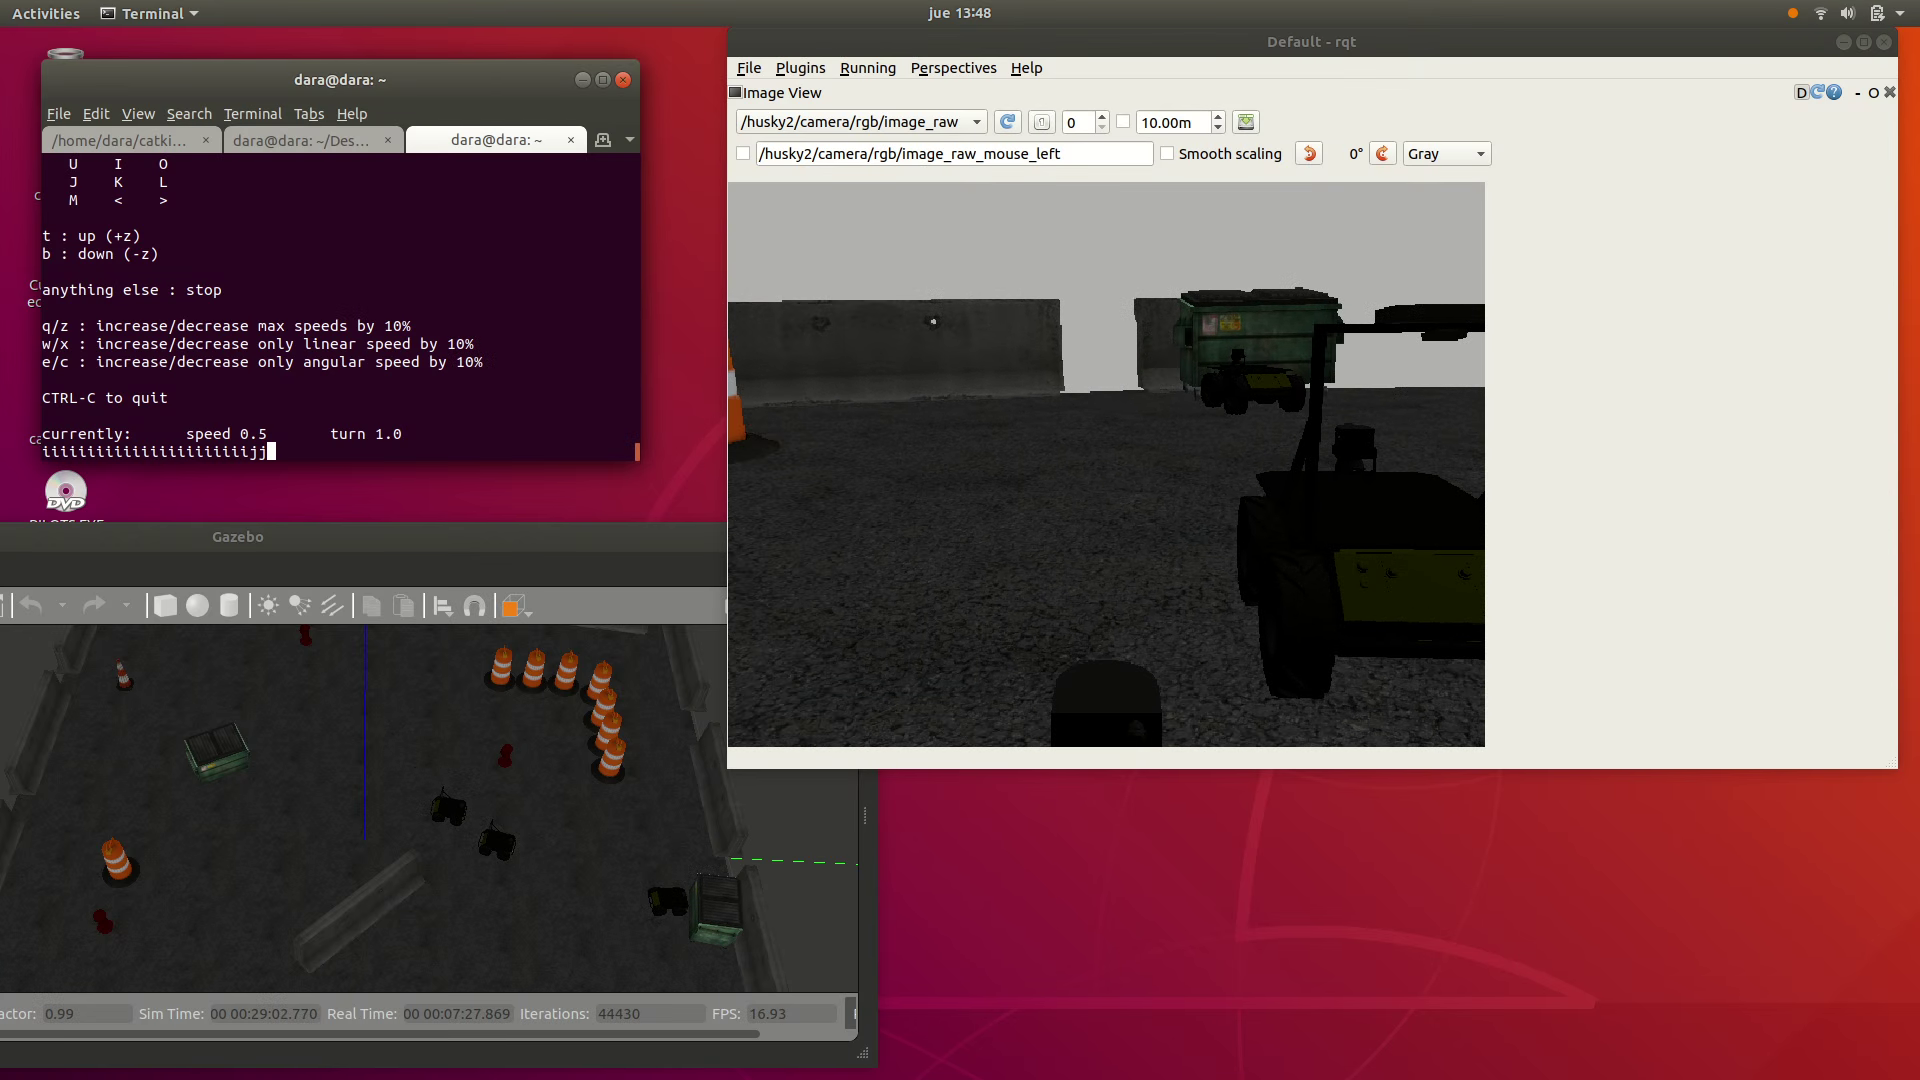husky: (1236, 471, 1485, 699), (1201, 364, 1305, 415), (648, 887, 689, 917), (478, 829, 516, 860), (430, 796, 467, 826)
